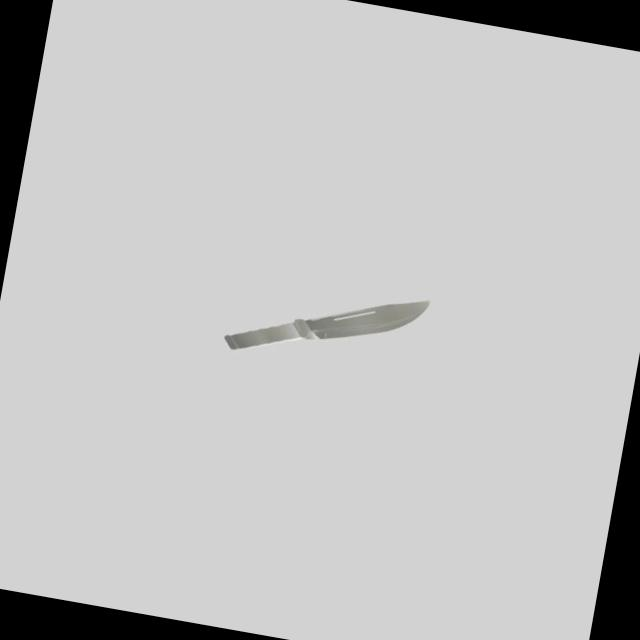knife: (220, 308, 313, 362)
